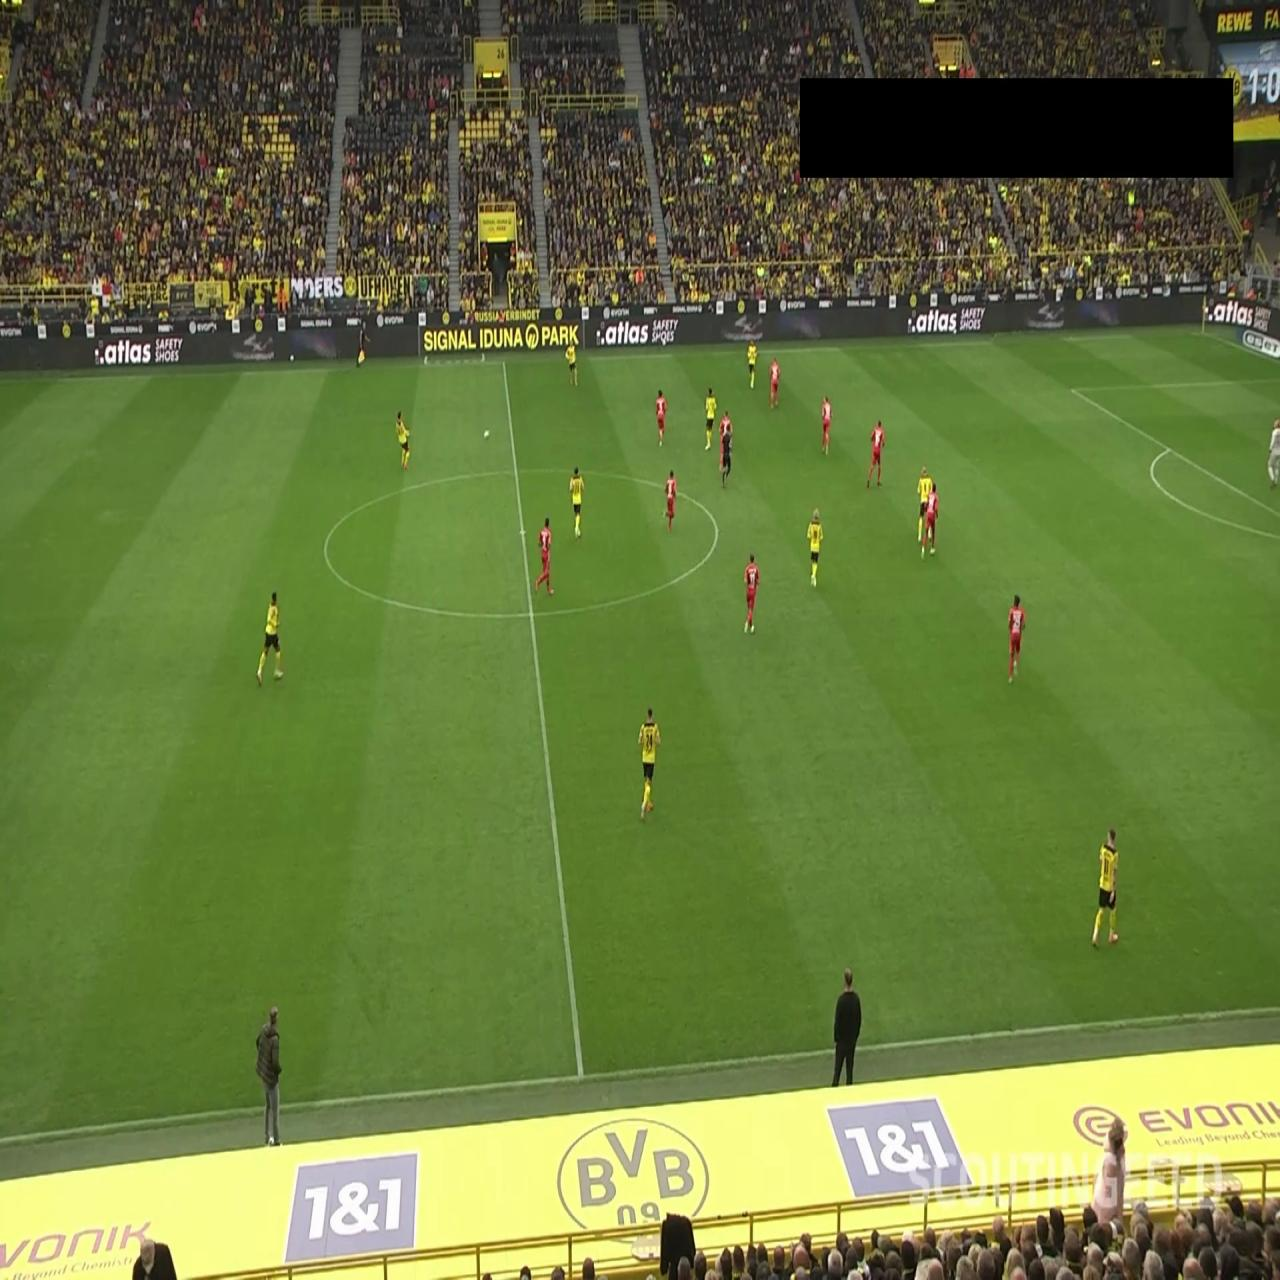ball: (484, 428, 491, 440)
player: (1091, 826, 1120, 948), (638, 706, 662, 822), (256, 590, 285, 686), (1008, 594, 1026, 682), (535, 514, 554, 596), (806, 507, 824, 589), (743, 552, 761, 634), (921, 481, 939, 557), (916, 465, 932, 550), (866, 418, 885, 488), (569, 465, 585, 539), (1266, 415, 1280, 488), (395, 410, 411, 469), (719, 410, 733, 474), (664, 468, 677, 533), (704, 386, 716, 451), (656, 388, 668, 448), (821, 396, 832, 455), (564, 342, 578, 388), (746, 339, 758, 390), (769, 355, 780, 409)
referee: (720, 423, 733, 490), (355, 320, 371, 370)
